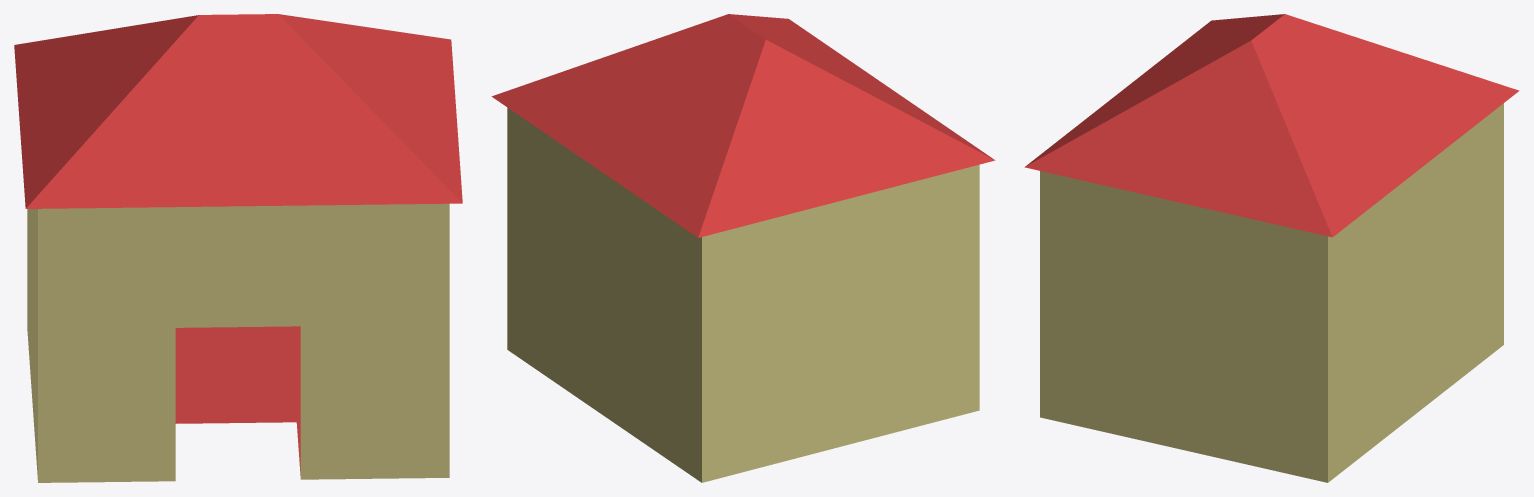
3 renders of one model, left to right at view 1: azimuth 30°, elevation 25°; view 2: azimuth 150°, elevation 25°; view 3: azimuth 270°, elevation 25°, orthographic. The views are drawn at different scales.
Size of the model in its own units: 22.19 by 21.42 by 16.84.
